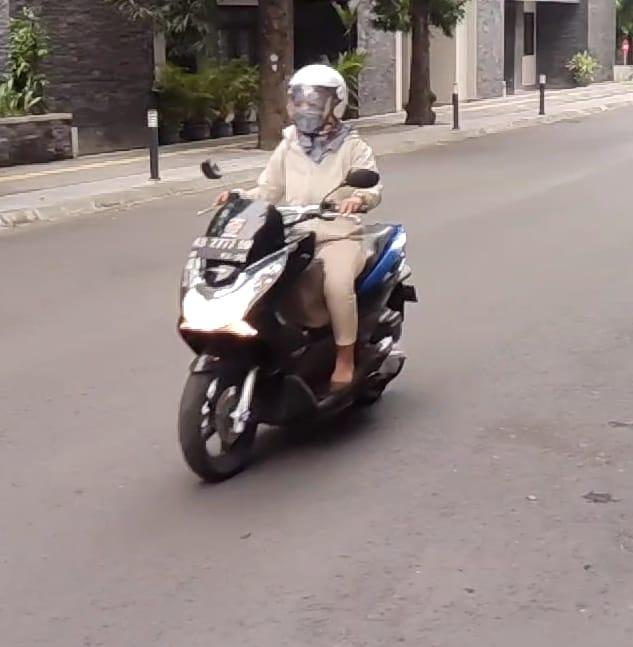helm: (284, 64, 349, 135)
riding: (177, 63, 421, 483)
